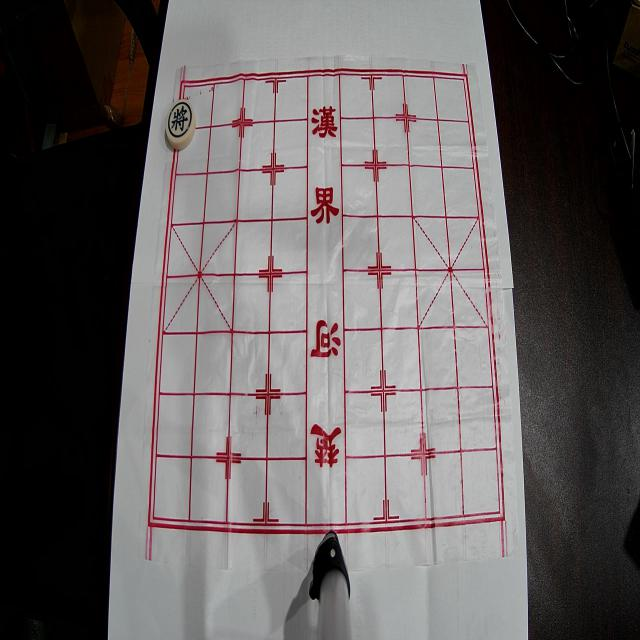black-general: (166, 99, 196, 150)
